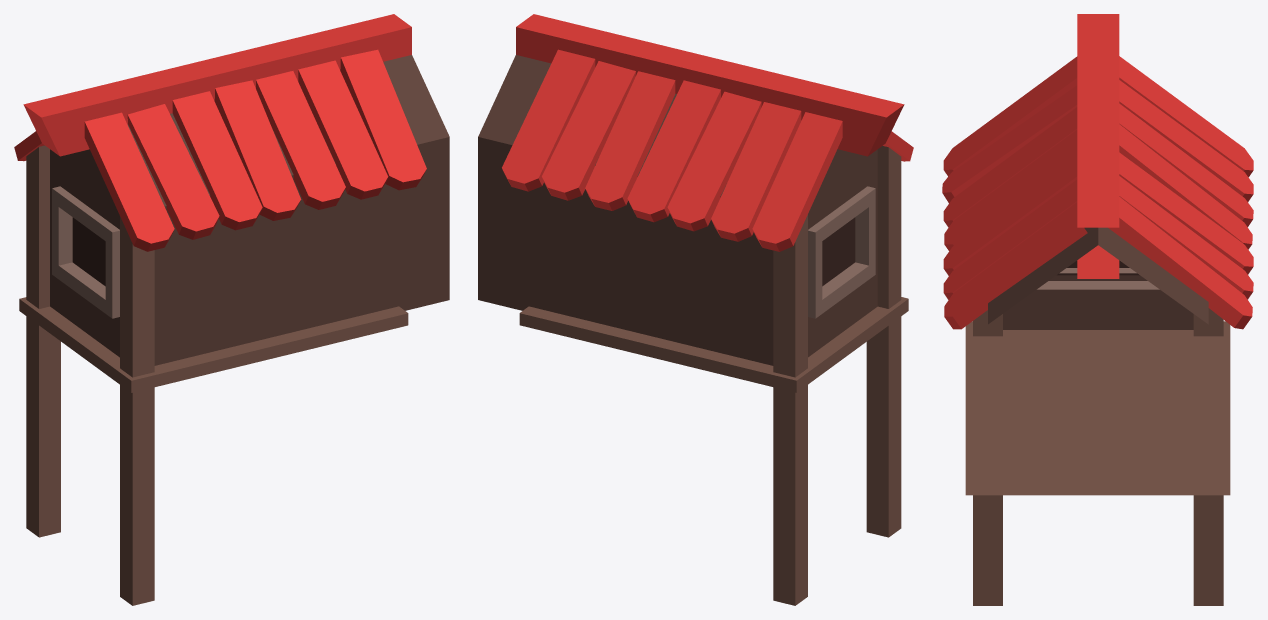
Rendered from Building_Big_Window_003.glb.
The picture shows the model from 3 angles, left to right: view 1: azimuth 30°, elevation 25°; view 2: azimuth 150°, elevation 25°; view 3: azimuth 270°, elevation 25°; orthographic projection. The views are drawn at different scales.
Parts seen in each view (by area): view 1: Building_Big_Window_003; view 2: Building_Big_Window_003; view 3: Building_Big_Window_003.
Part boxes in pixels (x1,y1,x2,y2): Building_Big_Window_003: [14, 14, 449, 605]; Building_Big_Window_003: [478, 14, 913, 605]; Building_Big_Window_003: [942, 14, 1253, 605].
Bounding box in the file's own units: 9.3 × 11.21 × 5.73.
1 material, 1 textured.
